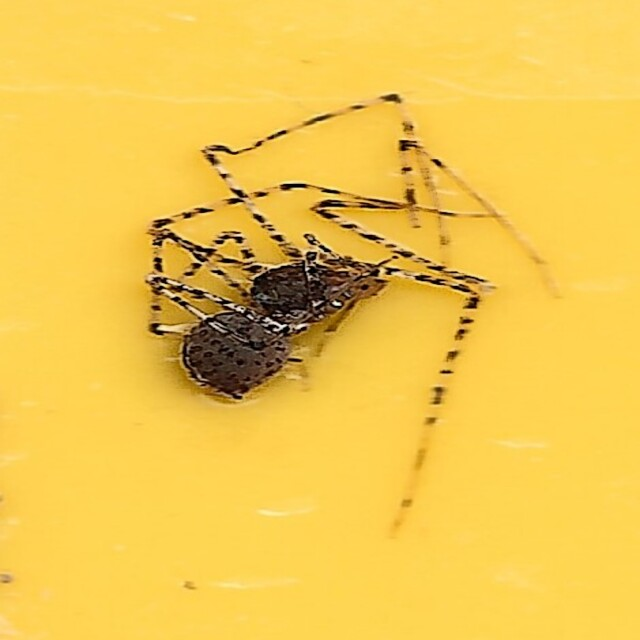Araneae: (136, 91, 504, 549)
